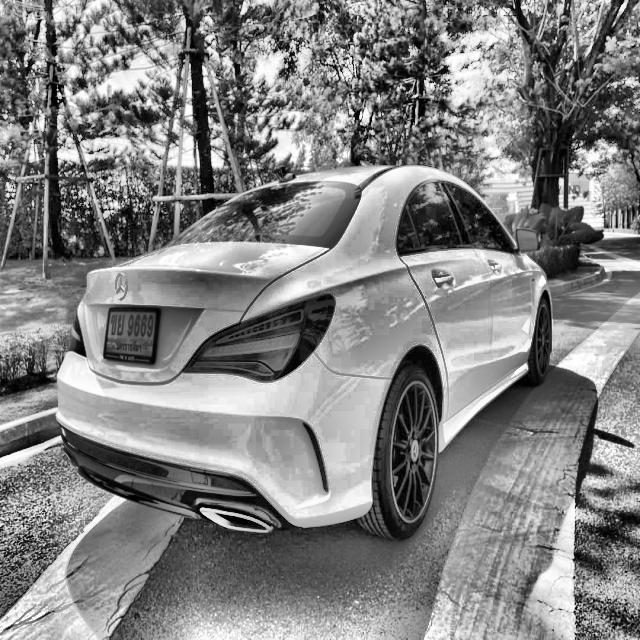license-plate: (105, 305, 157, 362)
